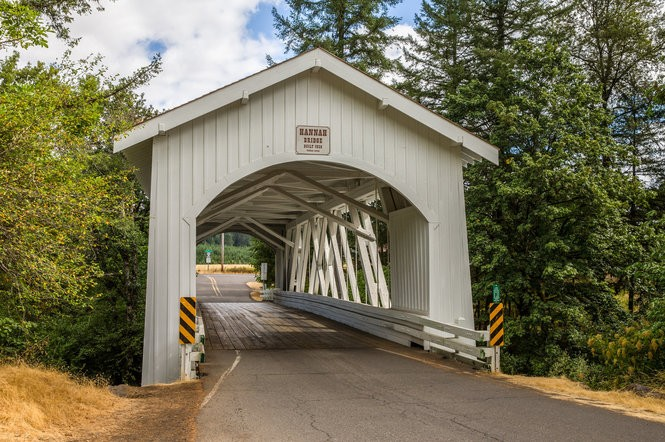bridge: (109, 44, 505, 245)
